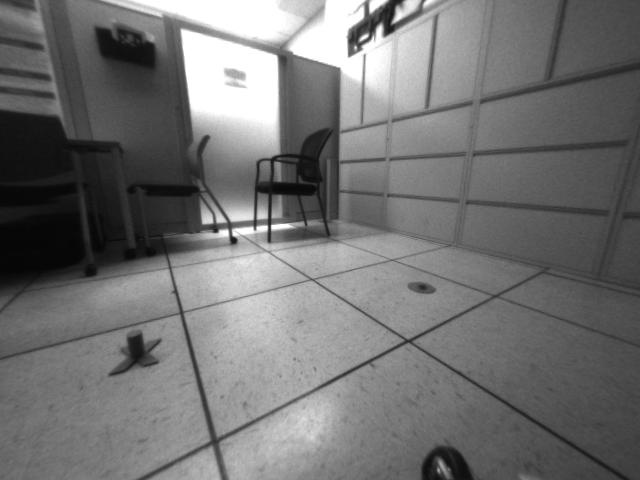X: (106, 330, 161, 373)
